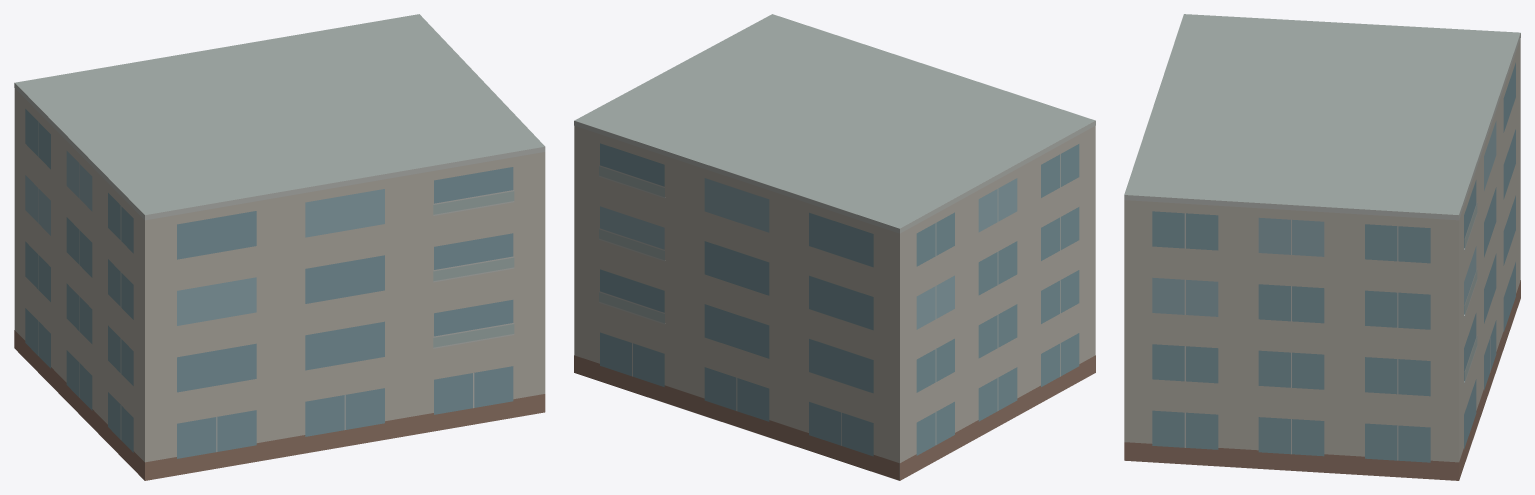
File: survey-upis-32514609.glb
3 views of the same model, side by side, from view 1: azimuth 30°, elevation 25°; view 2: azimuth 150°, elevation 25°; view 3: azimuth 270°, elevation 25° (orthographic). The views are drawn at different scales.
Visible parts, largest first — view 1: survey-upis-32514609.tmp; view 2: survey-upis-32514609.tmp; view 3: survey-upis-32514609.tmp.
Part boxes in pixels (bbox=[...]): survey-upis-32514609.tmp: bbox=[14, 14, 545, 480]; survey-upis-32514609.tmp: bbox=[574, 14, 1095, 480]; survey-upis-32514609.tmp: bbox=[1124, 14, 1520, 480].
Size of the model in its own units: 20.3 by 12.5 by 16.92.
